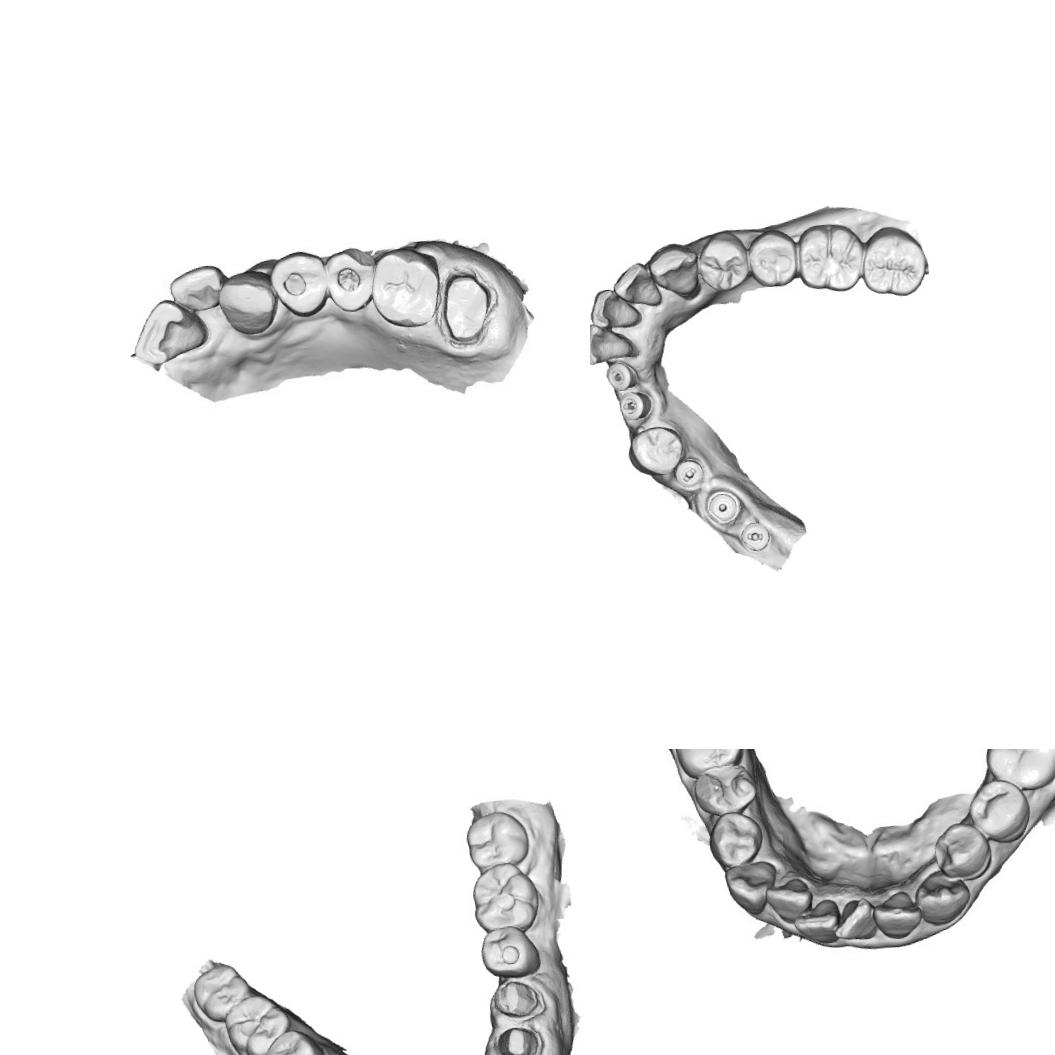canine: (218, 269, 278, 338), (722, 852, 782, 918), (916, 867, 979, 926), (645, 239, 702, 300)
crown: (438, 270, 500, 346), (491, 977, 547, 1022), (495, 1024, 546, 1055)
implant: (703, 487, 743, 527)
implant_minus: (735, 518, 774, 557), (604, 358, 638, 393), (672, 456, 706, 491)
implant_plus: (616, 388, 654, 424)
incisor: (128, 293, 214, 370), (790, 895, 849, 950), (167, 263, 228, 312), (608, 259, 664, 311), (769, 876, 824, 924), (590, 284, 643, 331), (876, 889, 921, 938), (590, 319, 635, 366), (834, 898, 876, 944)
molar: (370, 244, 440, 329), (792, 219, 868, 297), (858, 222, 930, 300), (467, 860, 542, 934), (222, 992, 294, 1055), (462, 808, 532, 871), (190, 960, 254, 1024), (978, 749, 1055, 794), (664, 749, 750, 778)
premolar: (964, 777, 1032, 846), (699, 806, 767, 874), (272, 248, 333, 320), (688, 761, 764, 818), (927, 818, 992, 884), (476, 922, 544, 982), (324, 244, 378, 319), (694, 228, 752, 295), (744, 225, 800, 290), (625, 423, 688, 480), (260, 1026, 328, 1055)
